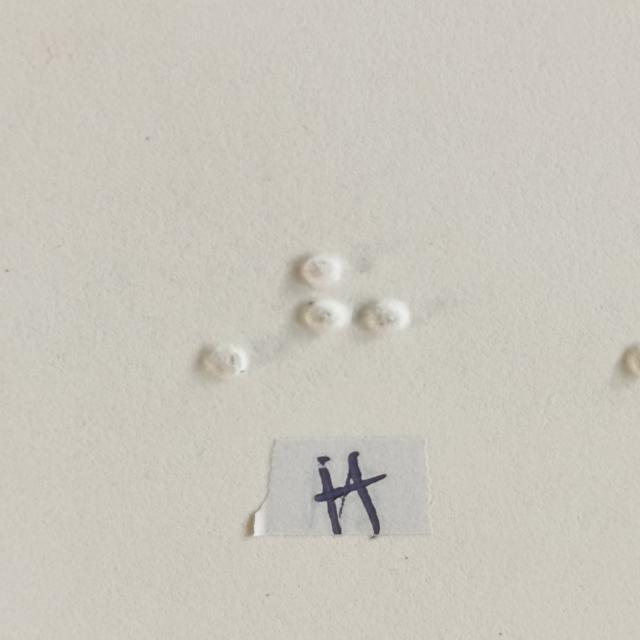capital_sign: (138, 252, 250, 379)
letter_H: (300, 255, 412, 382)
